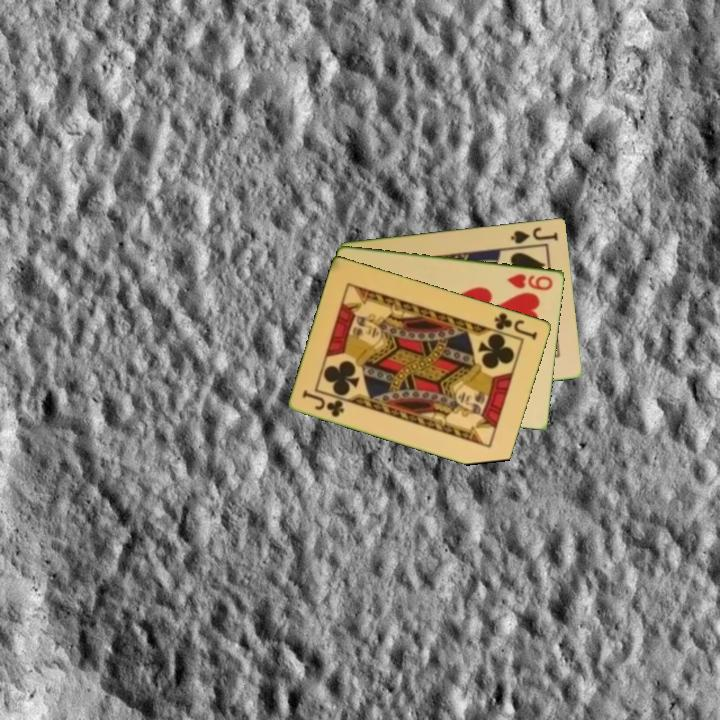9h: (504, 270, 556, 293)
Jc: (491, 309, 541, 343), (299, 386, 347, 420)
Js: (507, 223, 561, 246)
